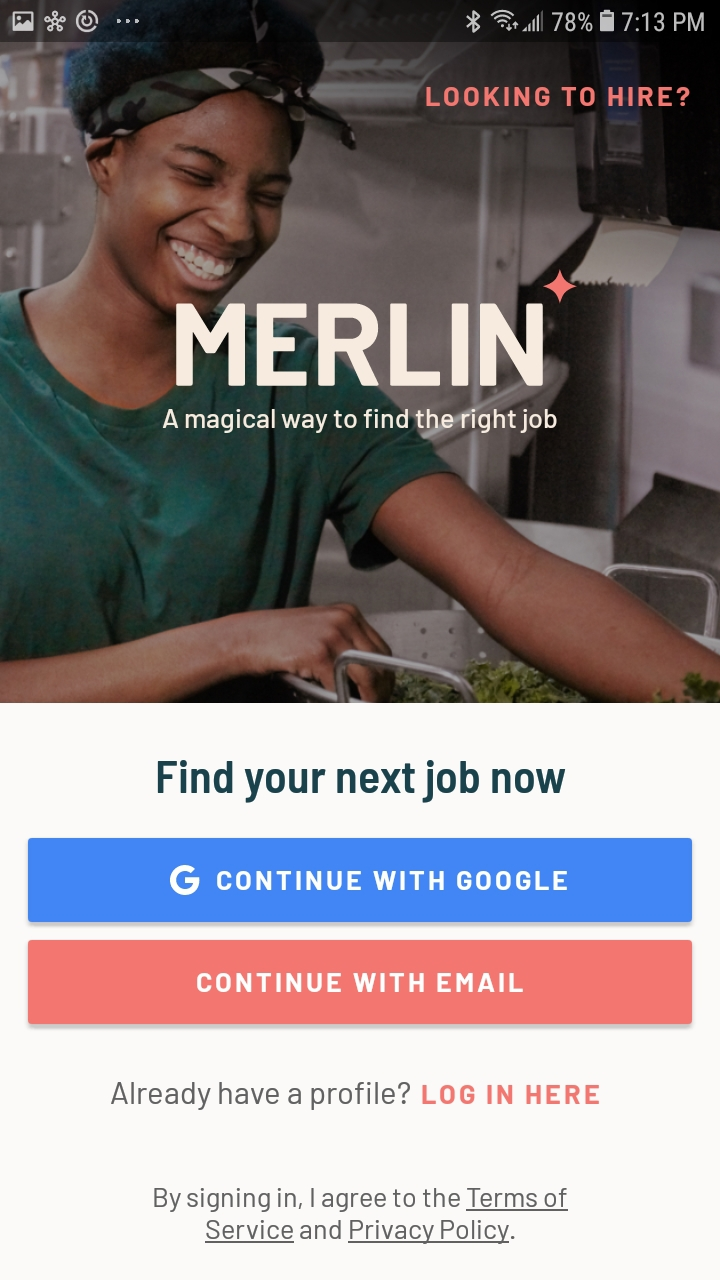Image: (1, 2, 720, 704), (177, 269, 577, 388)
Text: (154, 1187, 569, 1244), (158, 760, 566, 804), (111, 1081, 600, 1111), (164, 410, 558, 434), (425, 86, 690, 108)
TextButton: (29, 940, 693, 1025), (29, 838, 693, 923)
UpperTaskBar: (1, 1, 720, 43)
